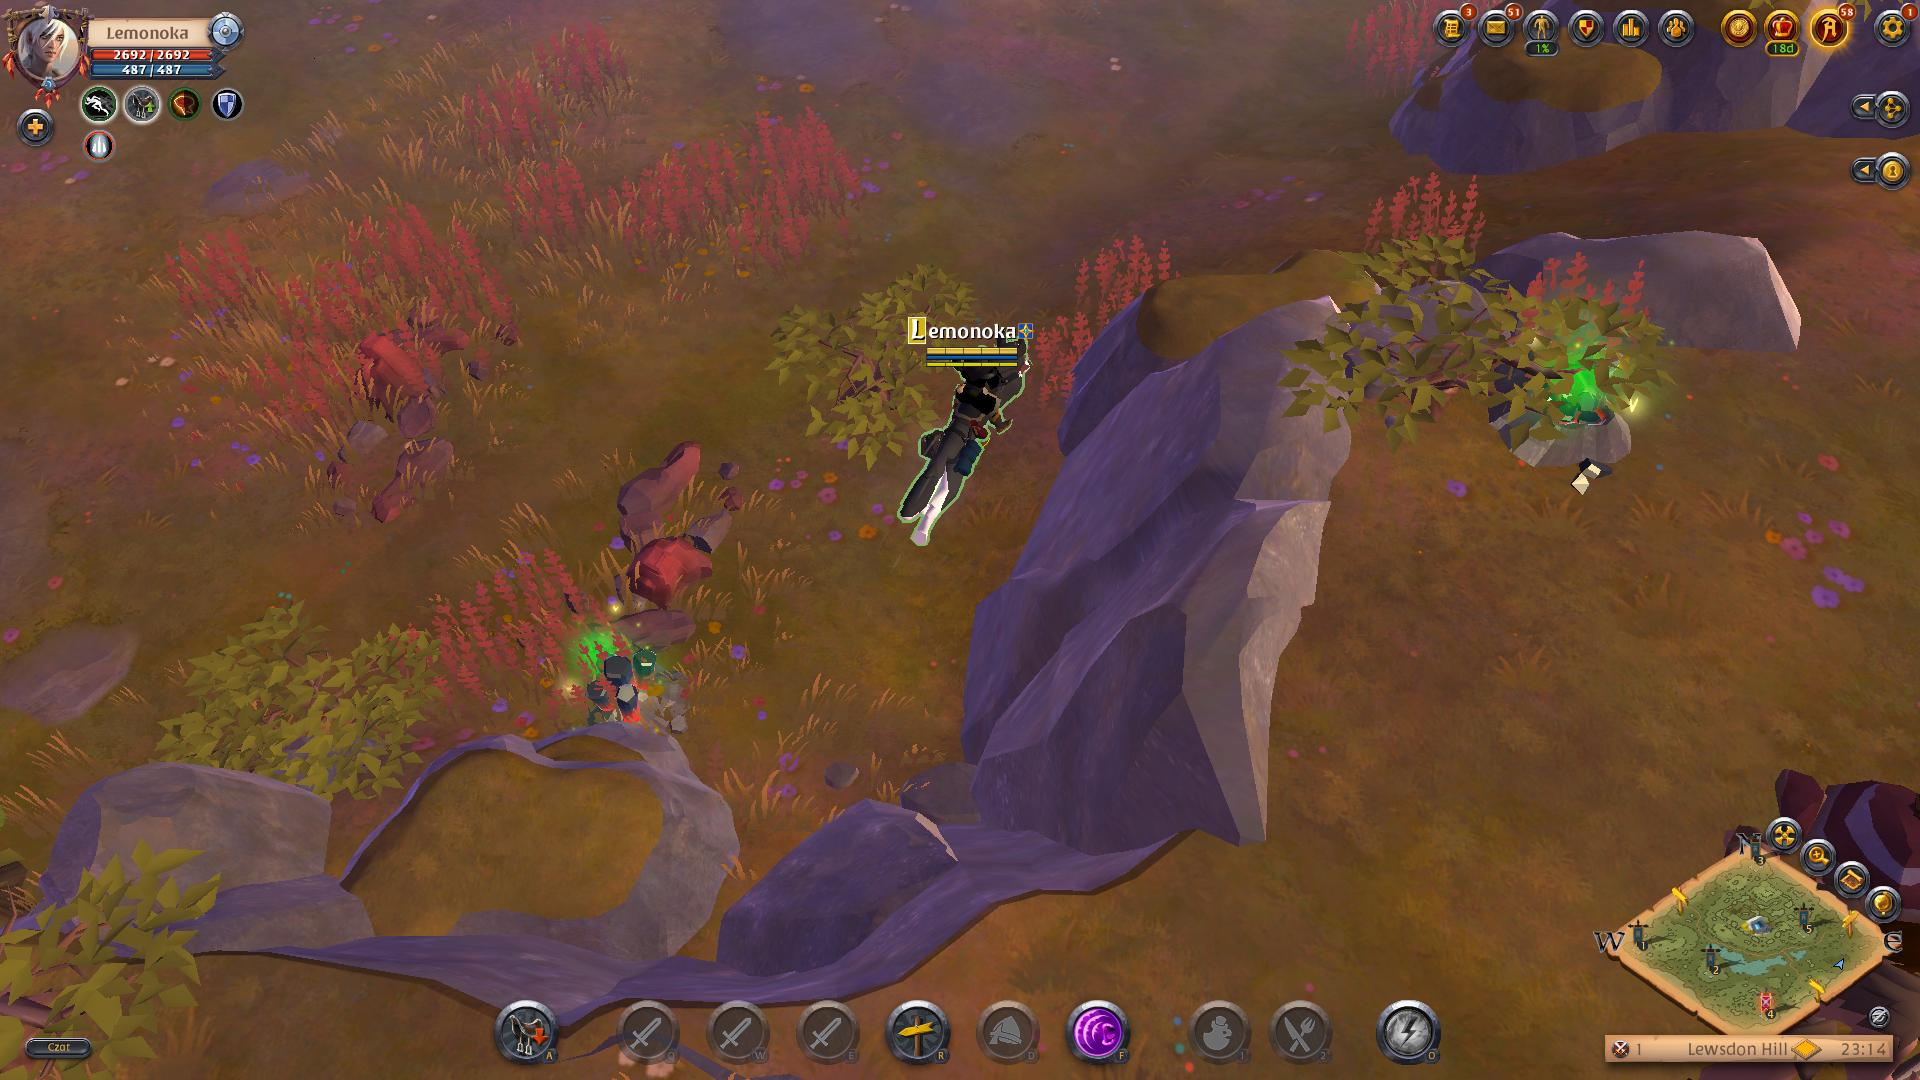ore tier 5: (570, 630, 688, 738)
